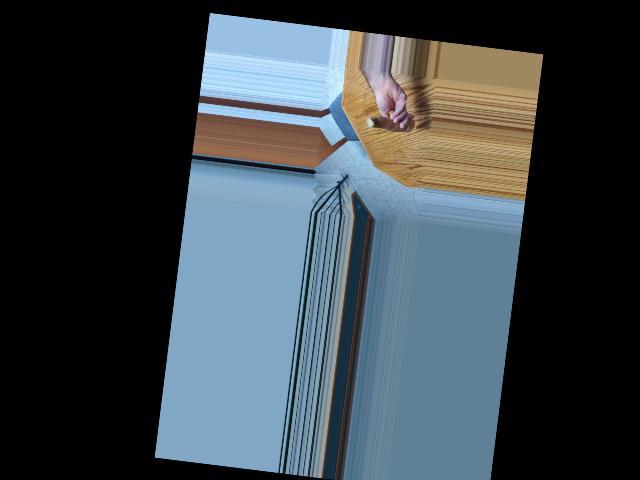sweet_potato: (364, 109, 416, 134)
